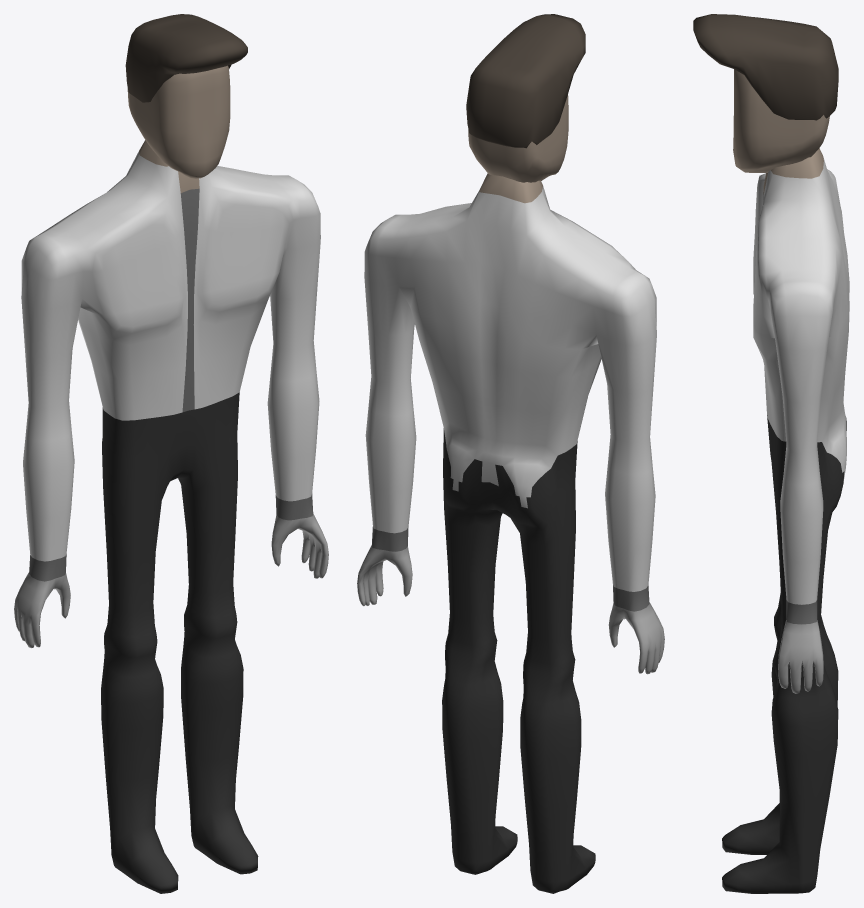
File: maybe fixed MC LIVE LIAN.fbx
3 renders of one model, left to right at view 1: azimuth 30°, elevation 25°; view 2: azimuth 150°, elevation 25°; view 3: azimuth 270°, elevation 25°, orthographic. The views are drawn at different scales.
Parts seen in each view (by area): view 1: polySurface5; view 2: polySurface5; view 3: polySurface5.
Boxes of the visible parts, <box> form: polySurface5: <box>14,14,328,893</box>; polySurface5: <box>357,14,664,893</box>; polySurface5: <box>693,14,849,893</box>.
Bounding box in the file's own units: 19.74 × 53.43 × 8.93.
